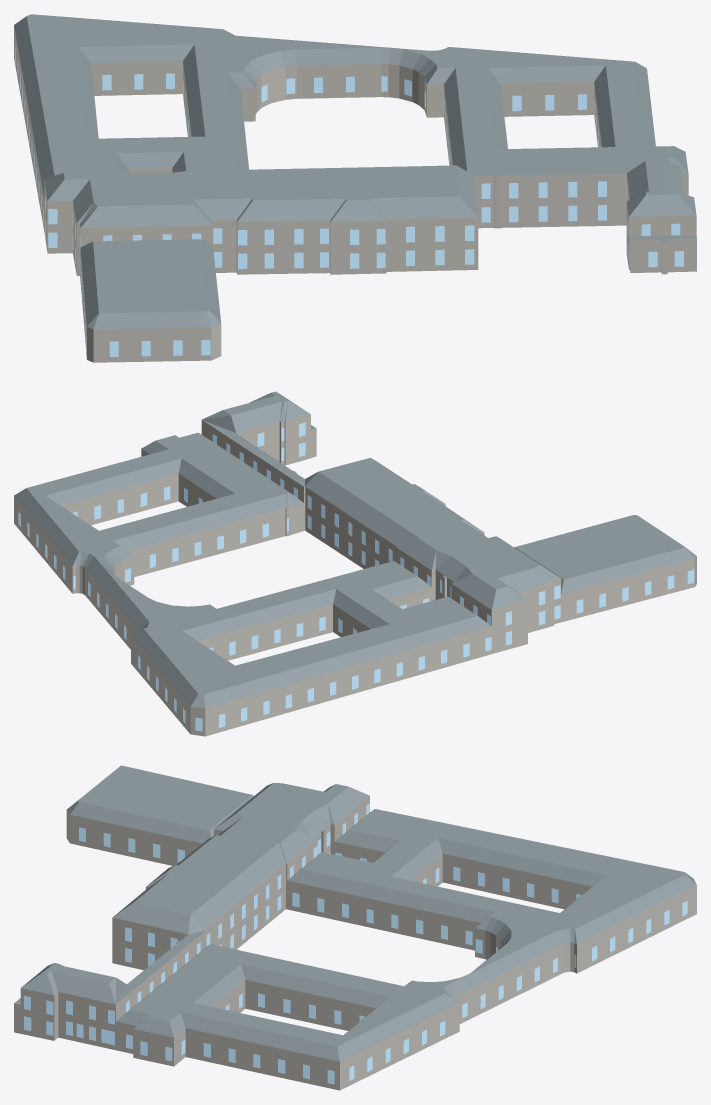
3 renders of one model, top to bottom at view 1: azimuth 30°, elevation 25°; view 2: azimuth 150°, elevation 25°; view 3: azimuth 270°, elevation 25°, orthographic. The views are drawn at different scales.
Parts seen in each view (by area): view 1: roof, stone, window; view 2: roof, stone, window; view 3: roof, stone, window.
Part boxes in pixels (x1=…): roof: x1=14, y1=14, x2=696, y2=329; stone: x1=14, y1=26, x2=696, y2=362; window: x1=15, y1=47, x2=683, y2=356; roof: x1=14, y1=391, x2=696, y2=708; stone: x1=14, y1=414, x2=696, y2=736; window: x1=18, y1=422, x2=694, y2=731; roof: x1=14, y1=765, x2=696, y2=1061; stone: x1=14, y1=796, x2=696, y2=1090; window: x1=24, y1=803, x2=687, y2=1084.
Size of the model in its own units: 130 by 12 by 129.
